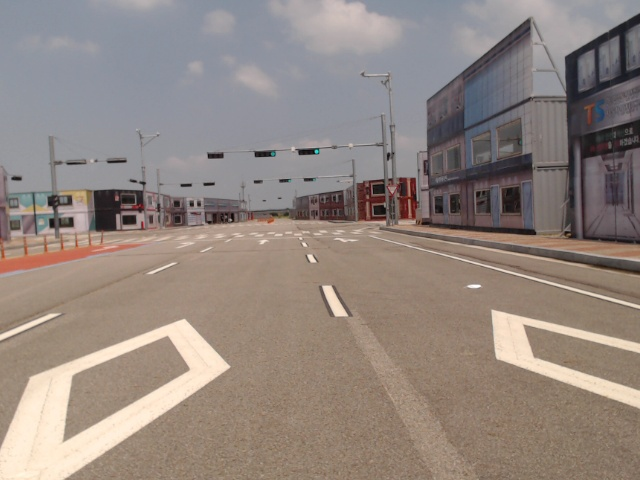straight_green_4: (255, 150, 276, 158), (299, 149, 319, 156), (278, 179, 292, 183), (303, 177, 317, 181)
